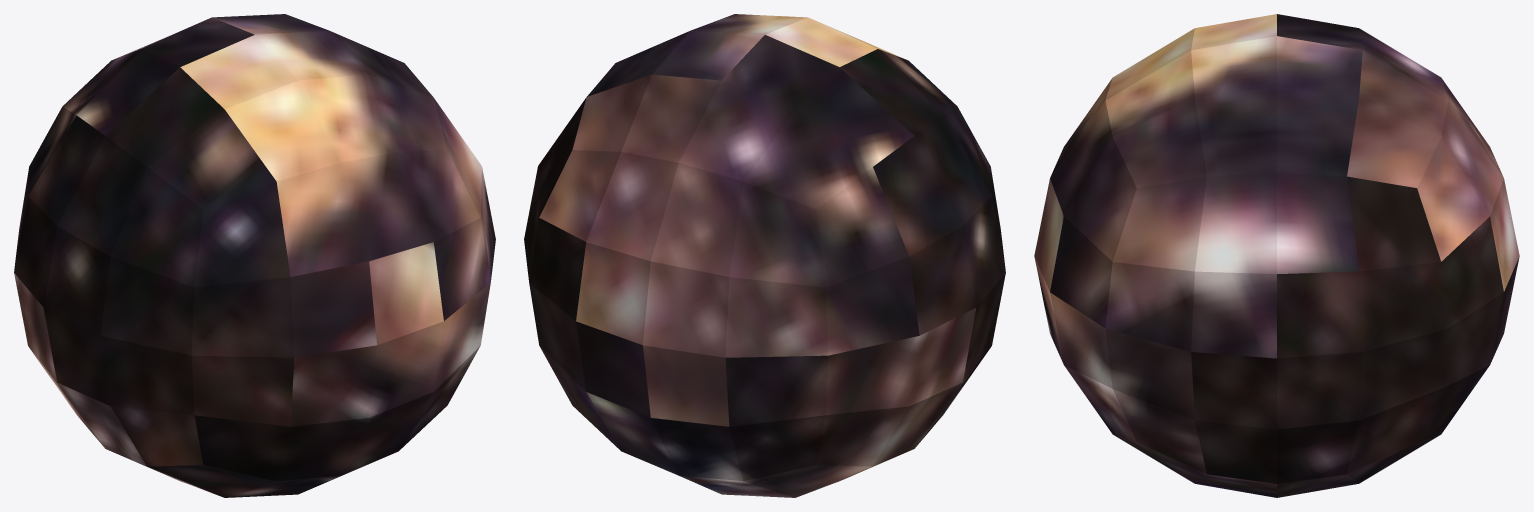
The model's file is calisto.glb.
The picture shows the model from 3 angles, left to right: view 1: azimuth 30°, elevation 25°; view 2: azimuth 150°, elevation 25°; view 3: azimuth 270°, elevation 25°; orthographic projection.
Parts seen in each view (by area): view 1: Roundcube; view 2: Roundcube; view 3: Roundcube.
Part boxes in pixels (bbox=[...]): Roundcube: bbox=[14, 14, 495, 497]; Roundcube: bbox=[524, 14, 1005, 497]; Roundcube: bbox=[1034, 14, 1519, 497].
Size of the model in its own units: 1.2 by 1.2 by 1.2.
Materials: 1 (1 with a texture image).
